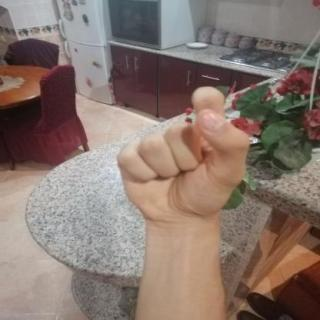FAA: (101, 79, 265, 237)
